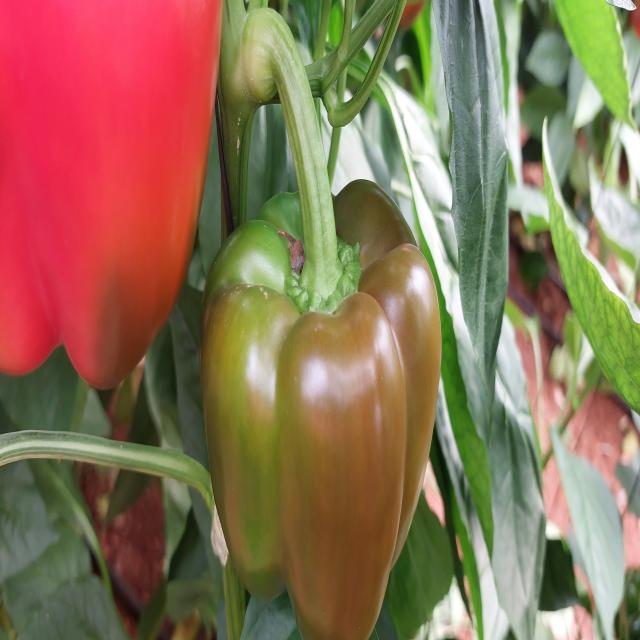BrownishRed--Can-be-Harvested: (215, 207, 438, 636), (0, 2, 224, 396)
